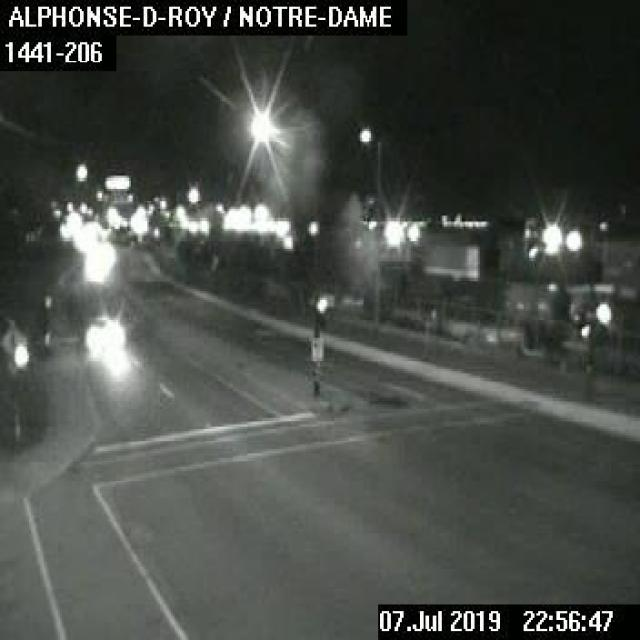vehicle: (82, 313, 122, 345)
